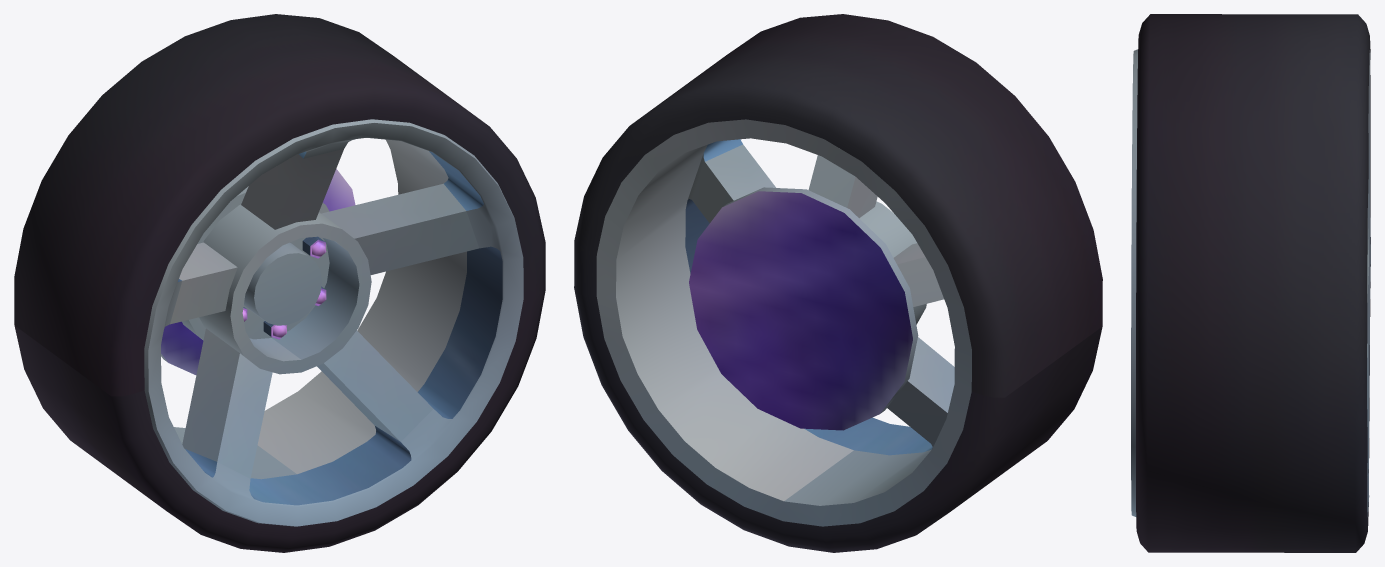
File: CocheLlantaDelanteraDerecha.obj
3 renders of one model, left to right at view 1: azimuth 30°, elevation 25°; view 2: azimuth 150°, elevation 25°; view 3: azimuth 270°, elevation 25°, orthographic. The views are drawn at different scales.
Visible parts, largest first — view 1: LlantaDelanteraDerecha; view 2: LlantaDelanteraDerecha; view 3: LlantaDelanteraDerecha.
Part boxes in pixels (left/top/right/bottom): LlantaDelanteraDerecha: left=14, top=14, right=545, bottom=552; LlantaDelanteraDerecha: left=574, top=14, right=1102, bottom=552; LlantaDelanteraDerecha: left=1131, top=14, right=1370, bottom=552.
Size of the model in its own units: 4.21 by 4.23 by 1.88.
